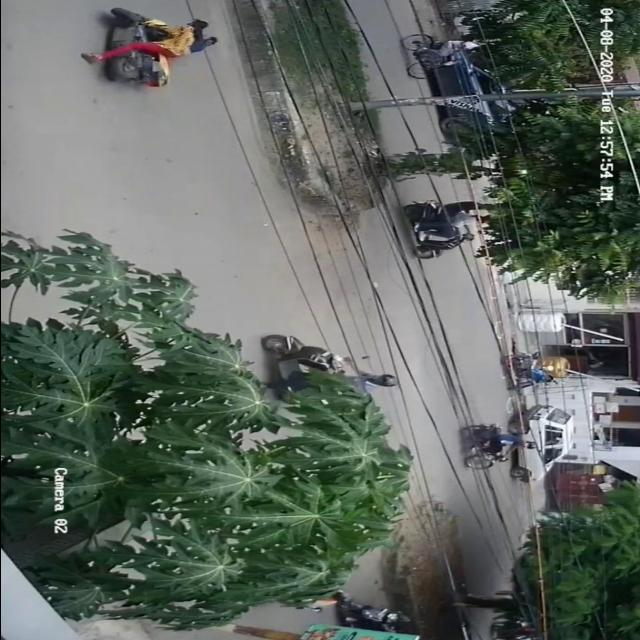accident: (79, 4, 233, 100)
